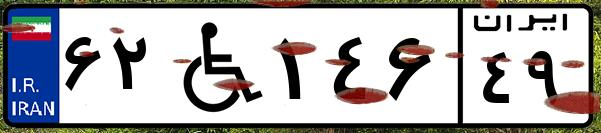1: (270, 28, 330, 110)
2: (110, 28, 158, 98)
4: (330, 28, 385, 110), (475, 38, 525, 113)
6: (385, 28, 445, 110), (57, 26, 110, 100)
9: (525, 38, 570, 115)
ژ (معلولین و جانبازان): (158, 12, 270, 120)
